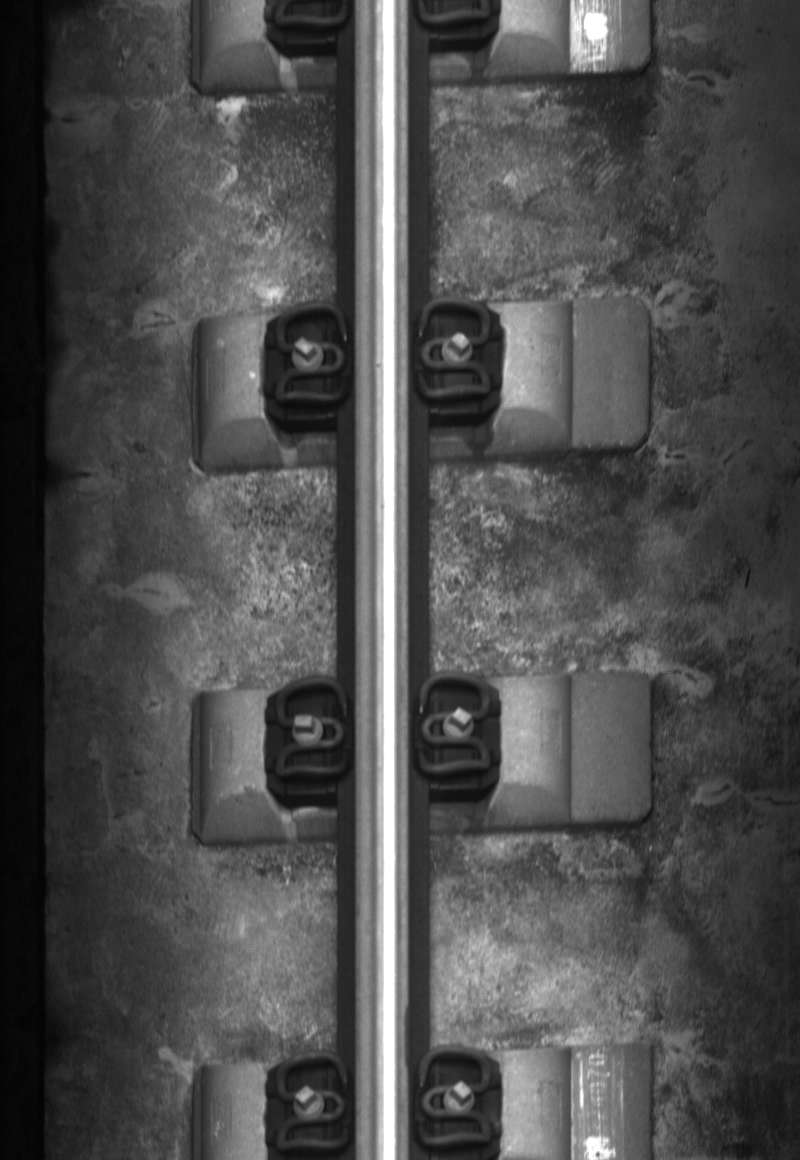l_faster: (268, 671, 354, 788), (267, 299, 352, 414), (270, 1050, 352, 1155)
r_faster: (412, 291, 496, 409), (412, 1044, 494, 1152), (413, 673, 493, 780)
